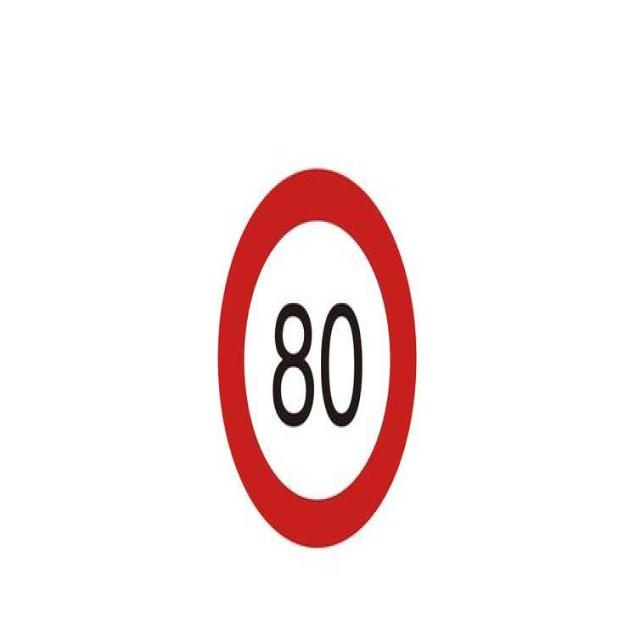speed limit 80: (216, 167, 417, 551)
